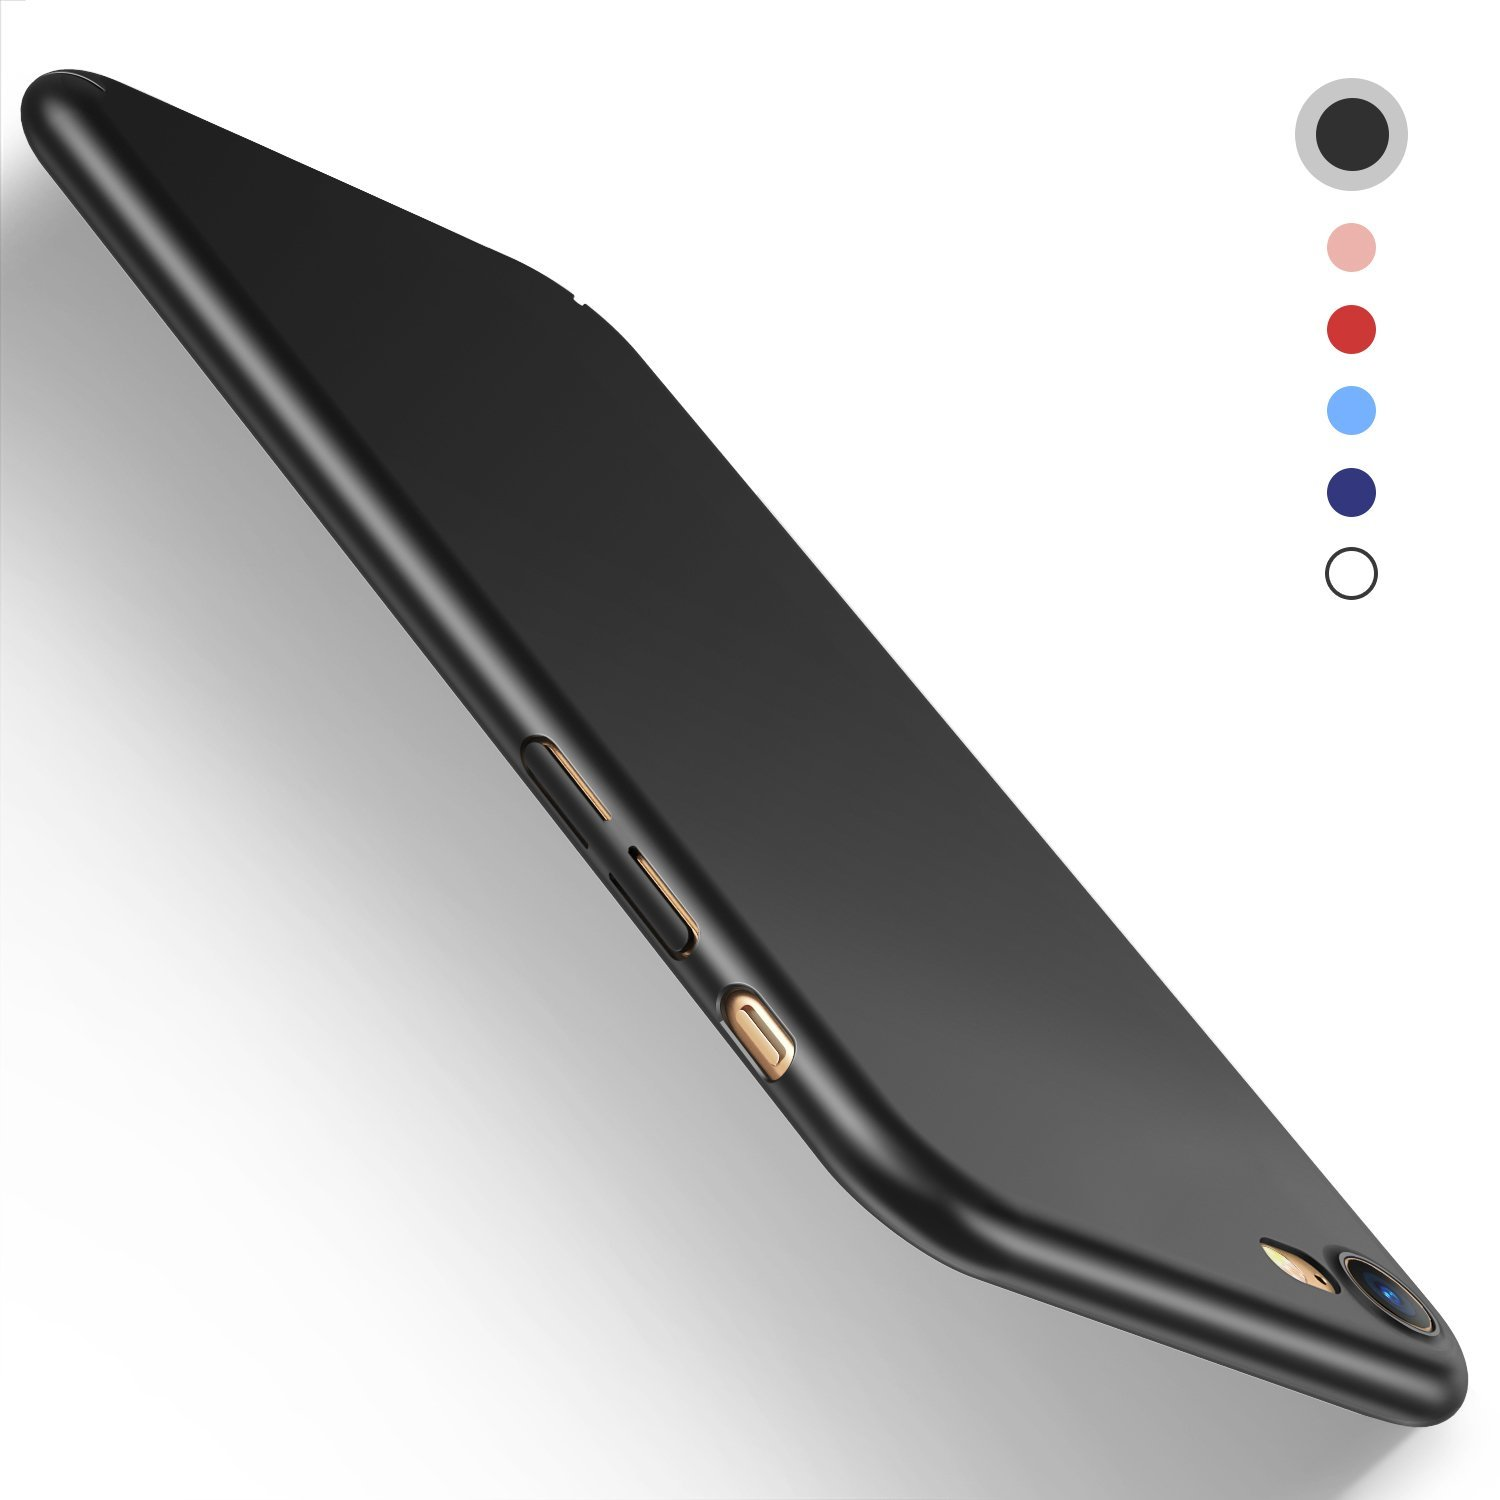smartphone: (21, 67, 1470, 1429)
